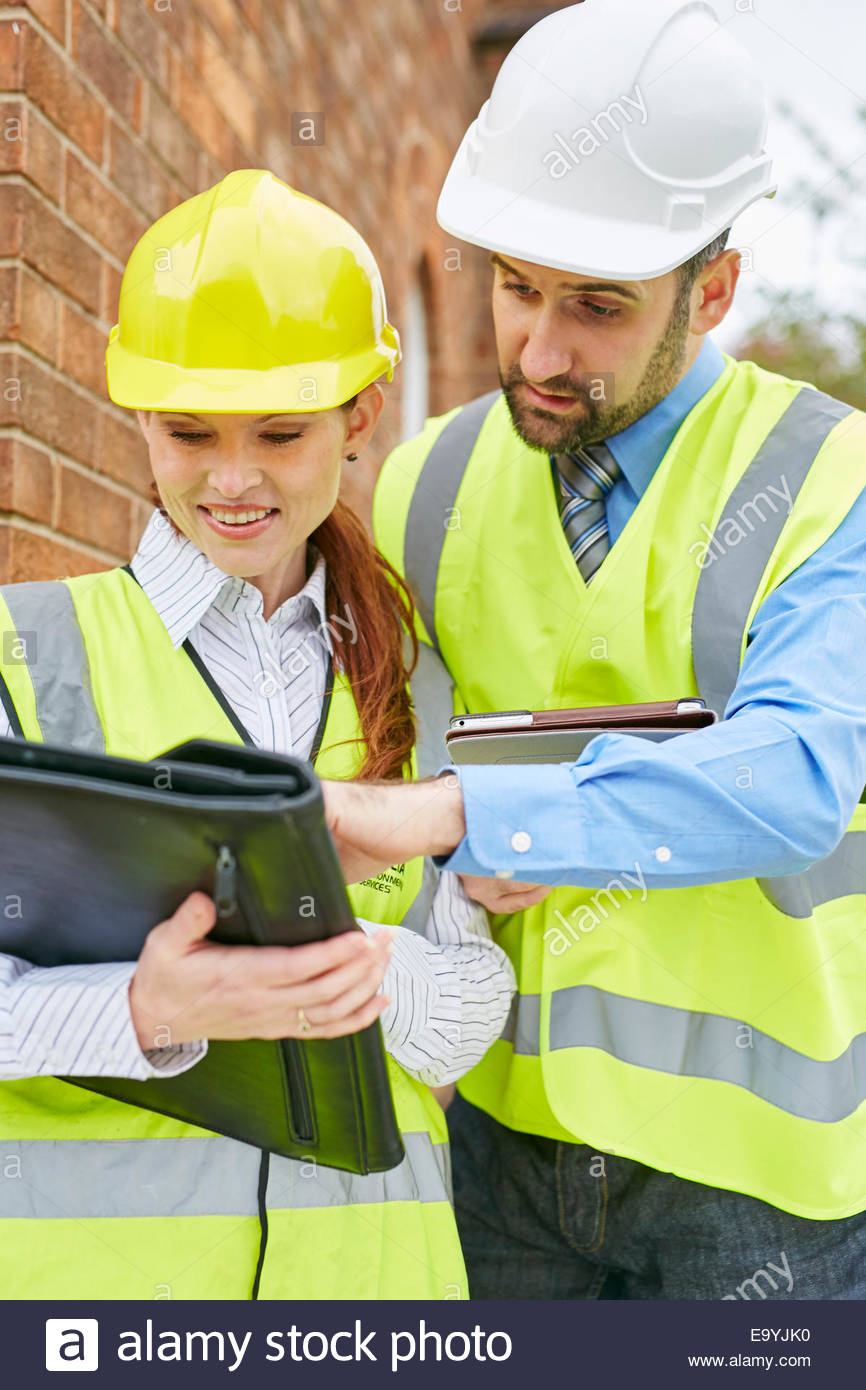casco: (432, 1, 784, 287), (100, 166, 406, 418)
